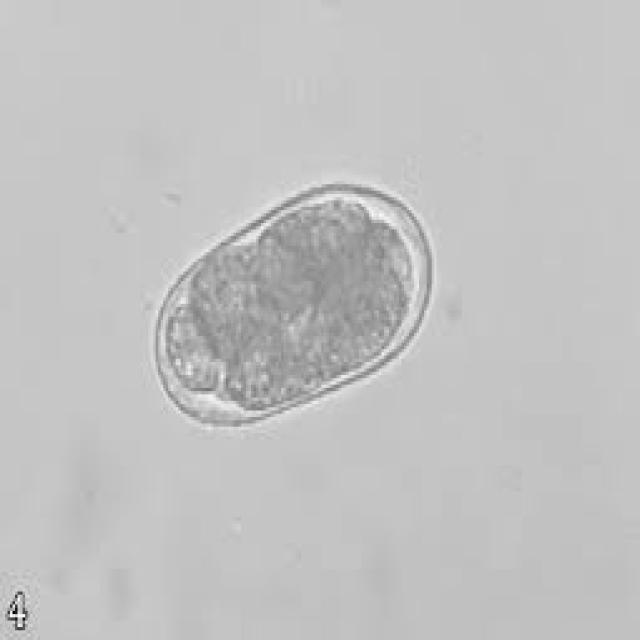Ancylostoma Spp: (144, 170, 438, 444)
